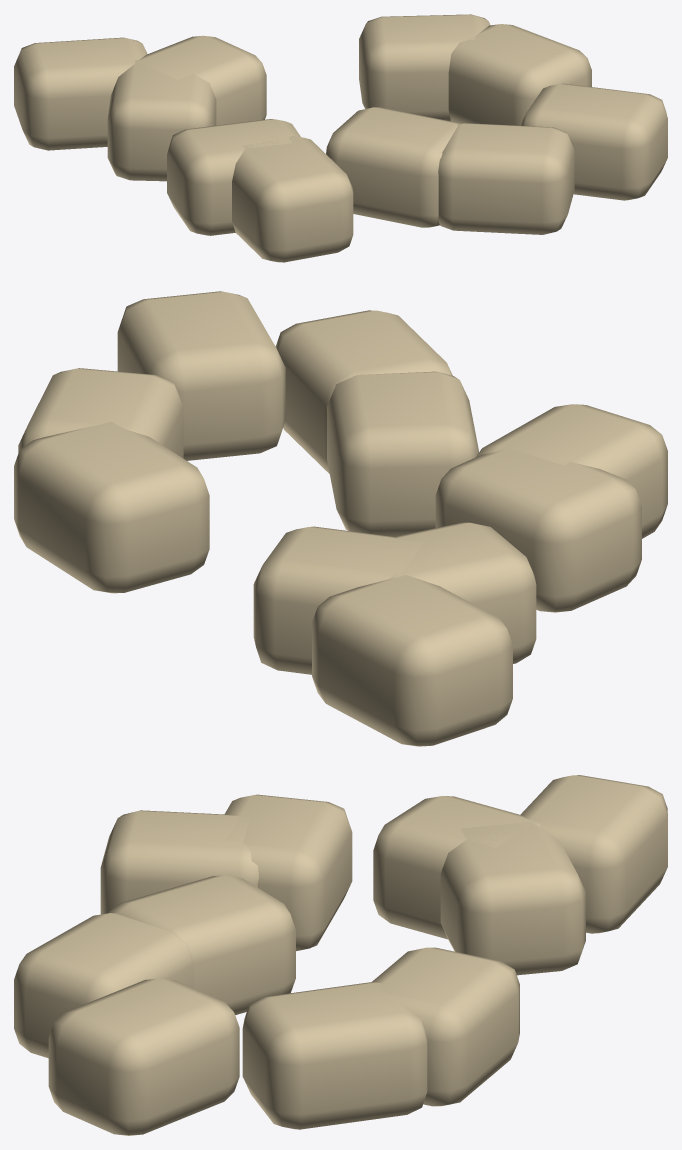
Rendered from JPN-09.glb.
3 renders of one model, top to bottom at view 1: azimuth 30°, elevation 25°; view 2: azimuth 150°, elevation 25°; view 3: azimuth 270°, elevation 25°, orthographic. The views are drawn at different scales.
Parts seen in each view (by area): view 1: settled rubble.004, settled rubble.007, settled rubble.001, settled rubble.005, settled rubble.006, settled rubble.003, settled rubble, settled rubble.009, settled rubble.008, settled rubble.002; view 2: settled rubble.006, settled rubble, settled rubble.008, settled rubble.001, settled rubble.005, settled rubble.002, settled rubble.004, settled rubble.007, settled rubble.009, settled rubble.003; view 3: settled rubble.001, settled rubble.003, settled rubble.002, settled rubble, settled rubble.006, settled rubble.005, settled rubble.004, settled rubble.008, settled rubble.007, settled rubble.009.
Boxes of the visible parts, x1=… form: settled rubble.004: x1=438, y1=123, x2=574, y2=234; settled rubble.007: x1=232, y1=136, x2=353, y2=262; settled rubble.001: x1=520, y1=83, x2=667, y2=200; settled rubble.005: x1=326, y1=107, x2=460, y2=227; settled rubble.006: x1=14, y1=37, x2=147, y2=150; settled rubble.003: x1=448, y1=24, x2=591, y2=125; settled rubble: x1=359, y1=14, x2=490, y2=121; settled rubble.009: x1=107, y1=60, x2=216, y2=181; settled rubble.008: x1=167, y1=119, x2=300, y2=235; settled rubble.002: x1=138, y1=35, x2=266, y2=125; settled rubble.006: x1=312, y1=575, x2=512, y2=746; settled rubble: x1=14, y1=421, x2=209, y2=593; settled rubble.008: x1=435, y1=448, x2=641, y2=612; settled rubble.001: x1=117, y1=291, x2=285, y2=460; settled rubble.005: x1=327, y1=371, x2=478, y2=536; settled rubble.002: x1=253, y1=526, x2=423, y2=674; settled rubble.004: x1=275, y1=310, x2=452, y2=473; settled rubble.007: x1=475, y1=404, x2=667, y2=538; settled rubble.009: x1=371, y1=522, x2=536, y2=663; settled rubble.003: x1=18, y1=368, x2=183, y2=458; settled rubble.001: x1=48, y1=978, x2=239, y2=1135; settled rubble.003: x1=242, y1=982, x2=427, y2=1129; settled rubble.002: x1=440, y1=821, x2=585, y2=975; settled rubble: x1=372, y1=947, x2=519, y2=1106; settled rubble.006: x1=520, y1=775, x2=667, y2=933; settled rubble.005: x1=108, y1=875, x2=295, y2=1014; settled rubble.004: x1=14, y1=913, x2=193, y2=1058; settled rubble.008: x1=224, y1=794, x2=352, y2=951; settled rubble.007: x1=100, y1=810, x2=258, y2=914; settled rubble.009: x1=373, y1=796, x2=540, y2=939.
Bounding box in the file's own units: 1.36 × 0.23 × 1.33.
